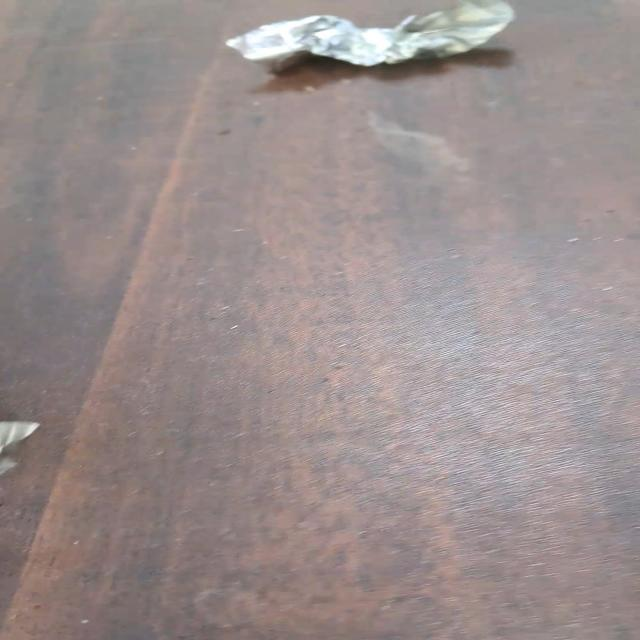Anorganik: (232, 2, 518, 67)
